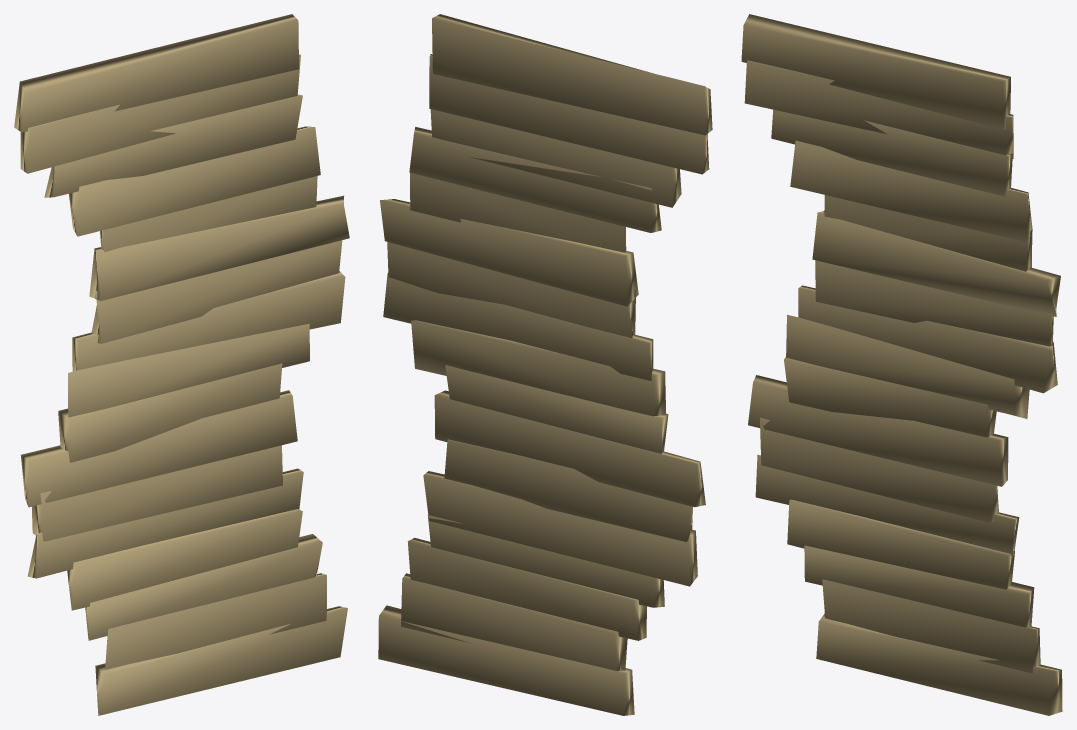
Rendered from dirt_path_hd.glb.
3 renders of one model, left to right at view 1: azimuth 30°, elevation 25°; view 2: azimuth 150°, elevation 25°; view 3: azimuth 330°, elevation 25°, orthographic. The views are drawn at different scales.
Bounding box in the file's own units: 2.93 × 5.55 × 0.1778.
